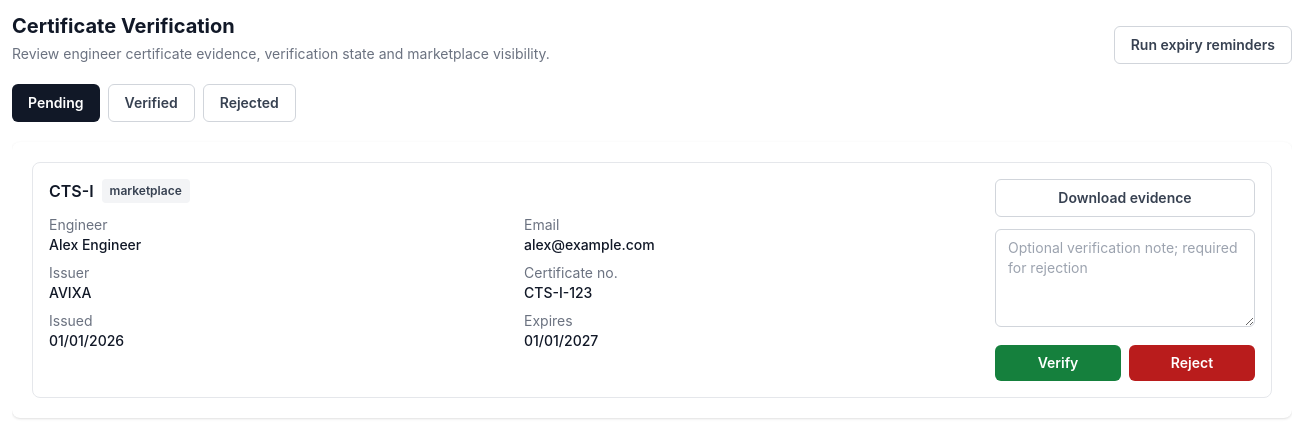
Test: CertificateVerificationView › loads pending certificates and verifies one with a review note
This screenshot has width=1304, height=436.
Expected: the heading "CTS-I" is shown, 49,179 -> 94,203
Expected: the text "Alex Engineer" is shown, 49,236 -> 141,253
Type "Issuer record confirmed." into the text box named "Review note for CTS-I" at (1125, 278), box 995,229 -> 1255,327
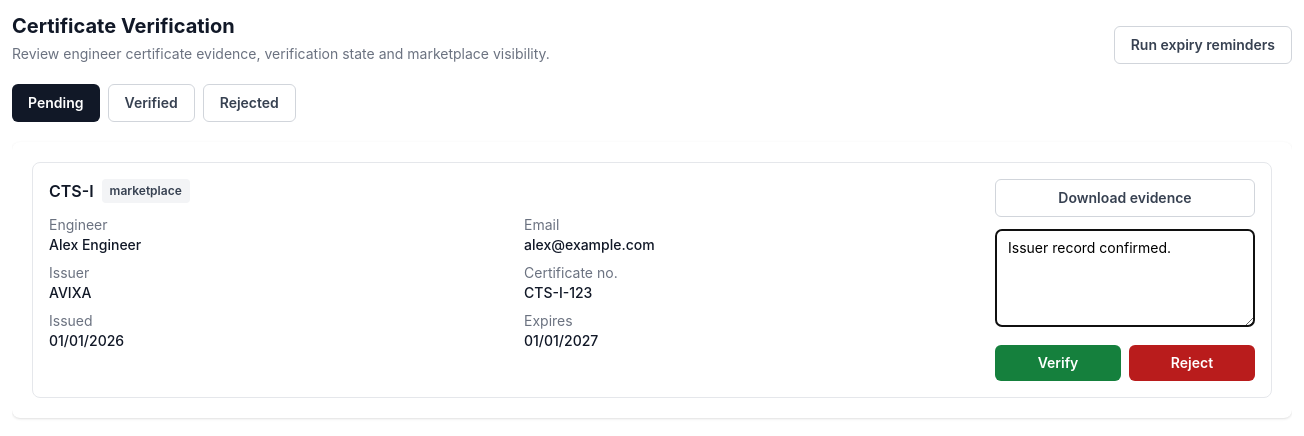
Click the button "Verify" at (1058, 363), box 995,345 -> 1121,381
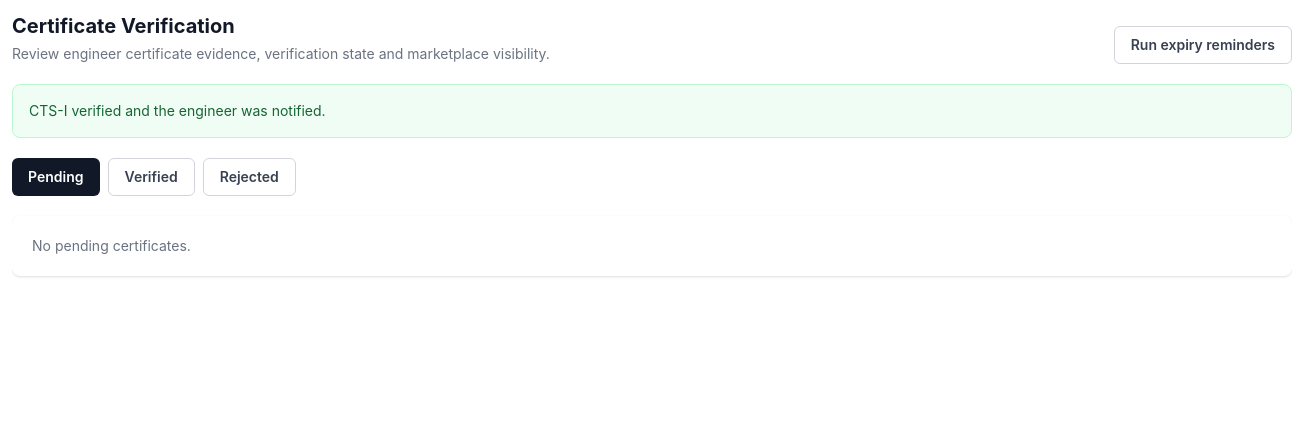
Now the text "CTS-I verified and the engineer was notified." is shown, box 12,84 -> 1292,138
